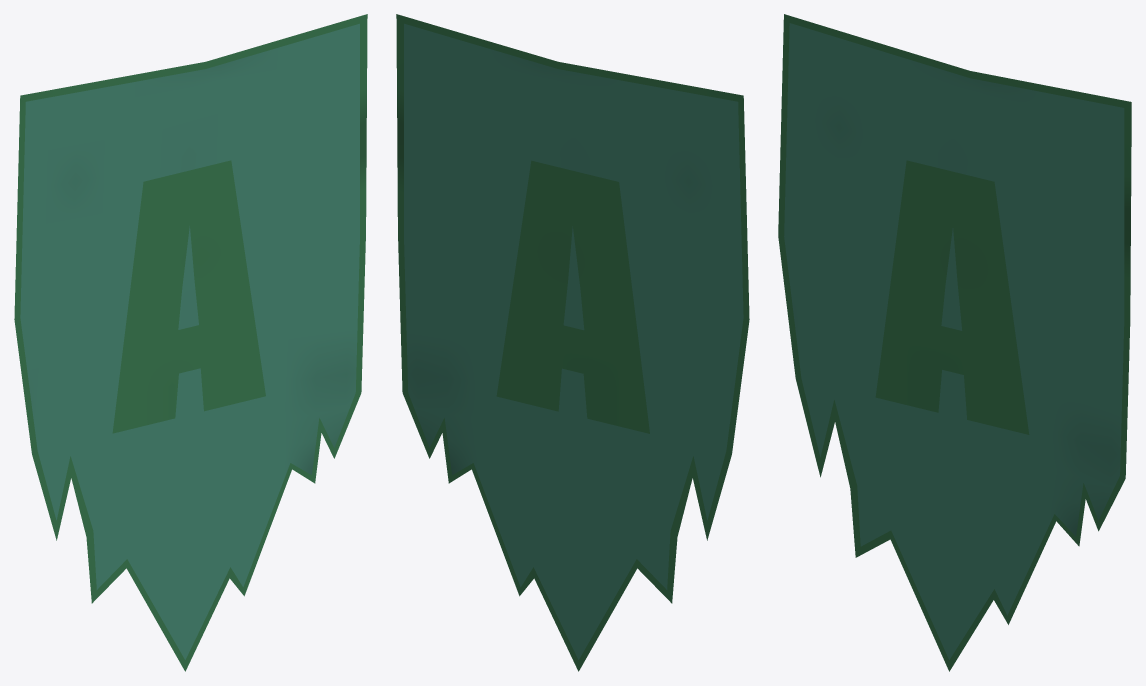
Rendered from DE_Guide_A_03.fbx.
3 views of the same model, side by side, from view 1: azimuth 30°, elevation 25°; view 2: azimuth 150°, elevation 25°; view 3: azimuth 330°, elevation 25° (orthographic).
Visible parts, largest first — view 1: DE_Guide_A_03; view 2: DE_Guide_A_03; view 3: DE_Guide_A_03.
Part boxes in pixels (x1,y1,x2,y2): DE_Guide_A_03: (14, 14, 367, 671); DE_Guide_A_03: (396, 14, 749, 671); DE_Guide_A_03: (778, 14, 1131, 671).
Bounding box in the file's own units: 81.29 × 136 × 0.5932.
